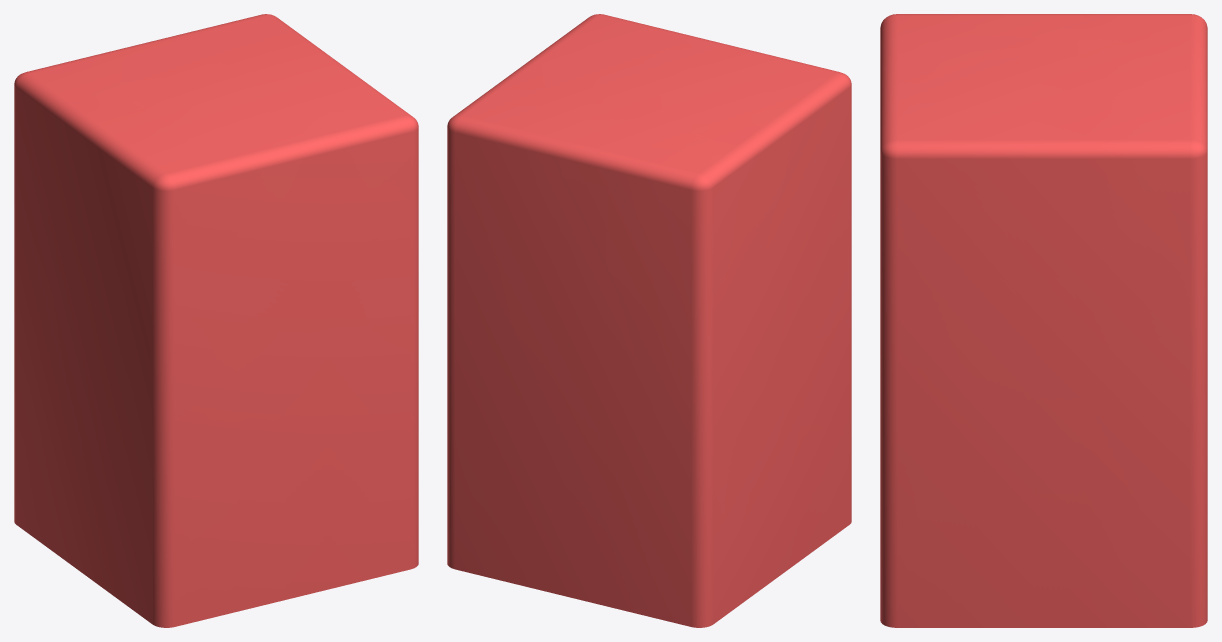
3 views of the same model, side by side, from view 1: azimuth 30°, elevation 25°; view 2: azimuth 150°, elevation 25°; view 3: azimuth 270°, elevation 25° (orthographic). The views are drawn at different scales.
Parts seen in each view (by area): view 1: cube_up; view 2: cube_up; view 3: cube_up.
Boxes of the visible parts, <box> form: cube_up: <box>14,14,418,627</box>; cube_up: <box>447,14,851,627</box>; cube_up: <box>880,14,1207,627</box>.
Bounding box in the file's own units: 2.11 × 3.42 × 2.11.
1 material, 1 textured.
